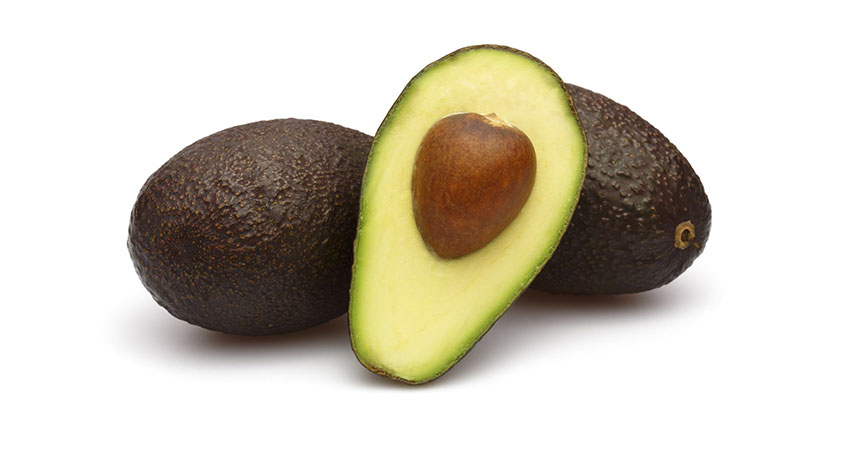fit_avocado: (97, 91, 397, 346)
